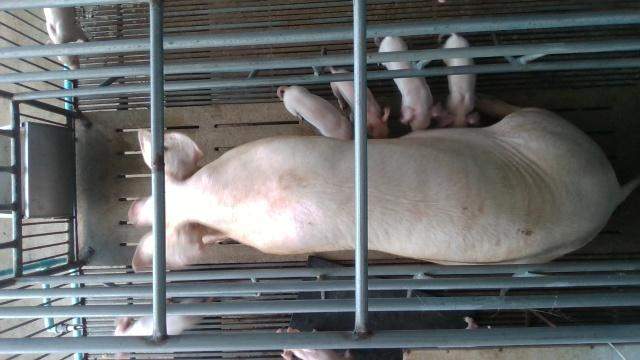piglet: (379, 35, 443, 130), (113, 298, 209, 360), (327, 69, 391, 137), (438, 34, 482, 130), (277, 84, 353, 139), (45, 6, 90, 69)
sow-sit: (130, 99, 640, 271)
